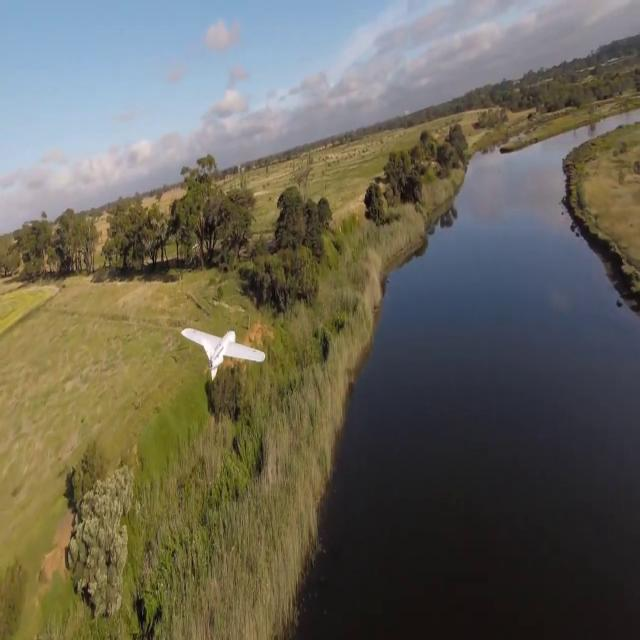iha: (212, 325, 234, 374)
